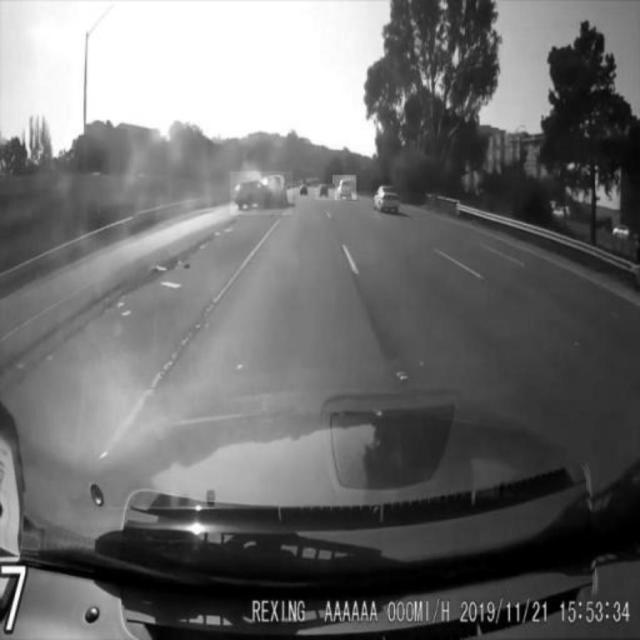accident: (230, 172, 292, 216)
vehicle: (373, 179, 405, 215), (332, 175, 356, 201), (315, 184, 335, 200)
